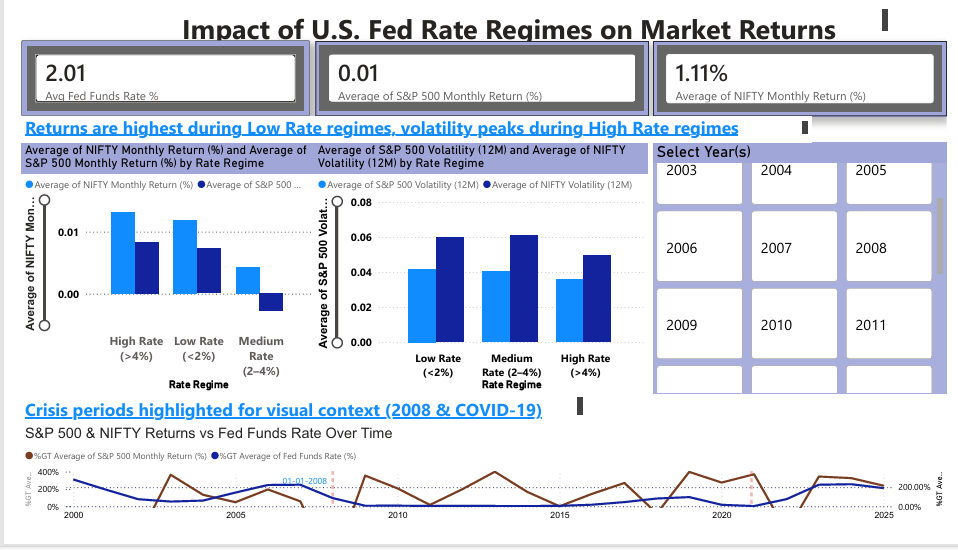

Layout of this report page (visuals, bound fields, positions):
{"tool":"powerbi","page":{"name":"Page 1","canvas":[1280,720],"ordinal":0},"visuals":[{"type":"textbox","box":[152.5,0,1051.2,60],"z":0},{"type":"cardVisual","fields":{"Data":["select","dashboard_data.Avg Fed Funds Rate %"]},"box":[0,47,399,105],"z":1000},{"type":"cardVisual","fields":{"Data":["Avg(dashboard_data.S&P 500 Monthly Return (%))1"]},"box":[406.7,48.3,461.7,103.3],"z":2000},{"type":"cardVisual","fields":{"Data":["Avg(dashboard_data.NIFTY Monthly Return (%))"]},"box":[874,48,406,104],"z":3000},{"type":"clusteredColumnChart","fields":{"Category":["dashboard_data.Rate Regime"],"Y":["Avg(dashboard_data.NIFTY Monthly Return (%))","Avg(dashboard_data.S&P 500 Monthly Return (%))"]},"box":[0,188.2,406.3,348],"z":4000},{"type":"clusteredColumnChart","fields":{"Category":["dashboard_data.Rate Regime"],"Y":["Avg(dashboard_data.S&P 500 Volatility (12M))","Avg(dashboard_data.NIFTY Volatility (12M))"]},"box":[405,188.3,461.7,348.3],"z":5000},{"type":"advancedSlicerVisual","title":"Select Year(s)","fields":{"Values":["dashboard_data.Month.Variation.Date Hierarchy.Year"]},"box":[873.9,188.2,406.3,348],"z":6000},{"type":"lineChart","title":"S&P 500 & NIFTY Returns vs Fed Funds Rate Over Time","fields":{"Category":["dashboard_data.Month.Variation.Date Hierarchy.Year","dashboard_data.Month.Variation.Date Hierarchy.Quarter","dashboard_data.Month.Variation.Date Hierarchy.Month","dashboard_data.Month.Variation.Date Hierarchy.Day"],"Y":["Sum(dashboard_data.S&P 500 Monthly Return (%))"],"Y2":["Divide(Avg(dashboard_data.Fed Funds Rate (%)), ScopedEval(Avg(dashboard_data.Fed Funds Rate (%)), []))"]},"box":[0,580,1280,140],"z":7000},{"type":"textbox","box":[0,536,782,44],"z":8000},{"type":"textbox","box":[0,151.7,1093.3,36.7],"z":9000}]}

Visuals, with their boxes in screenshot pixels (x1, y1, x2, y2), scaled from the page's 1280x720 canvas onto the 958x550 screenshot:
textbox: (114, 0, 901, 46)
cardVisual - select x dashboard_data.Avg Fed Funds Rate %: (0, 36, 299, 116)
cardVisual - Avg(dashboard_data.S&P 500 Monthly Return (%))1: (304, 37, 650, 116)
cardVisual - Avg(dashboard_data.NIFTY Monthly Return (%)): (654, 37, 957, 116)
clusteredColumnChart - dashboard_data.Rate Regime x Avg(dashboard_data.NIFTY Monthly Return (%)): (0, 144, 304, 410)
clusteredColumnChart - dashboard_data.Rate Regime x Avg(dashboard_data.S&P 500 Volatility (12M)): (303, 144, 649, 410)
"Select Year(s)" advancedSlicerVisual: (654, 144, 957, 410)
"S&P 500 & NIFTY Returns vs Fed Funds Rate Over Time" lineChart: (0, 443, 957, 549)
textbox: (0, 409, 585, 443)
textbox: (0, 116, 818, 144)
